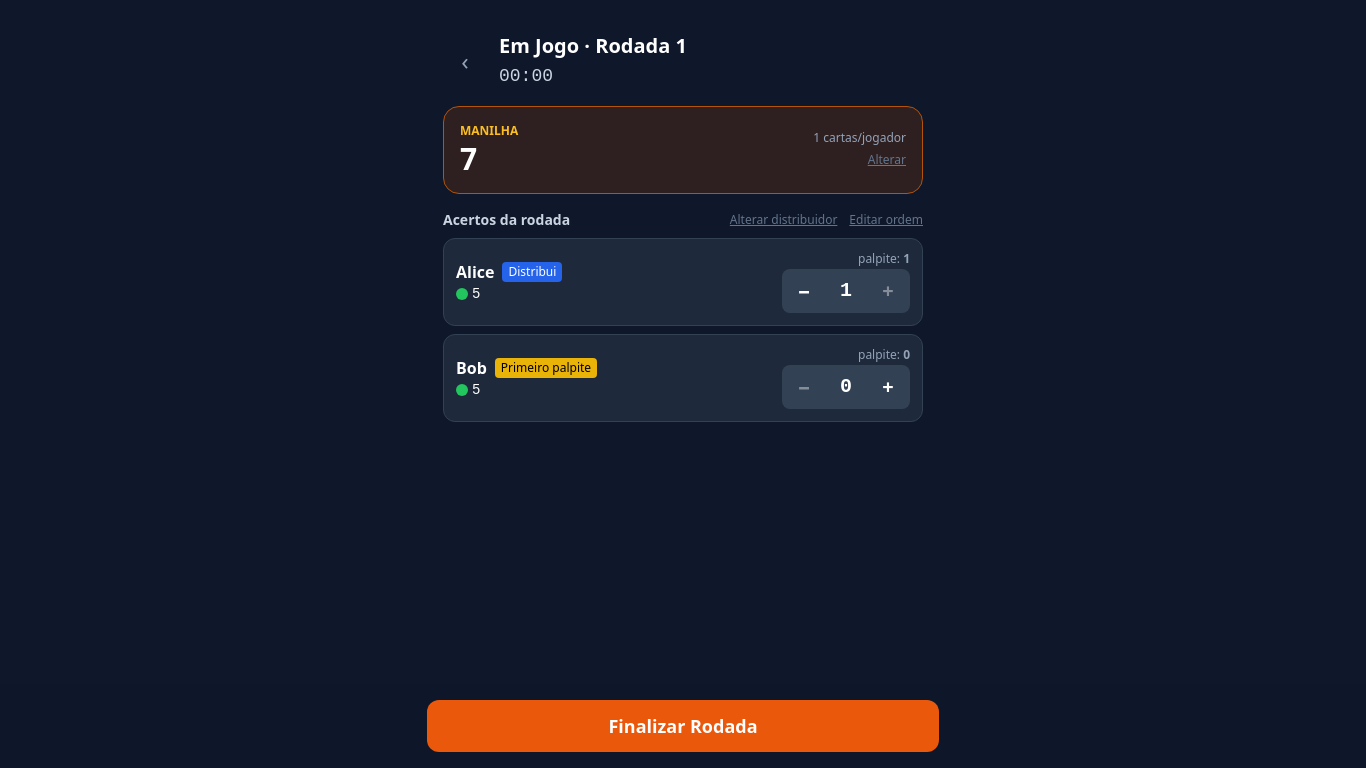
it: PlayingPhase — tricks inputs › shows confirmation modal when tricks total matches cardsPerPlayer
The width and height of the screenshot is (1366, 768).
What coordinates should you click on to do the following:
click the button "Finalizar Rodada"
I would click on:
 (683, 726)
Its box is [427, 700, 939, 752].
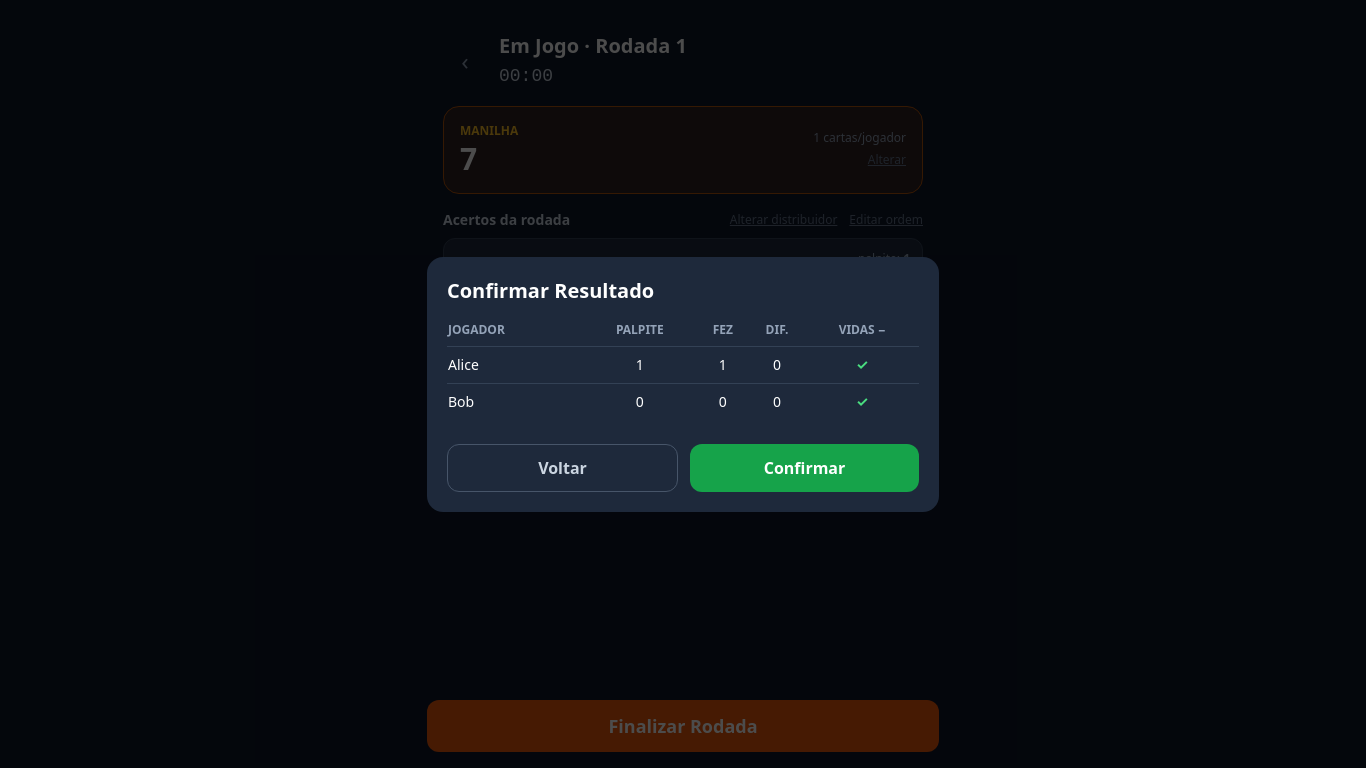
Now the button "Confirmar" is shown, box [690, 444, 919, 492]
